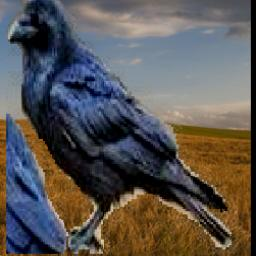Crow: (7, 0, 239, 254)
